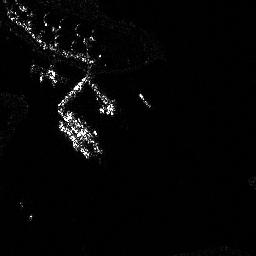ship: (54, 119, 92, 156), (30, 63, 67, 84)
